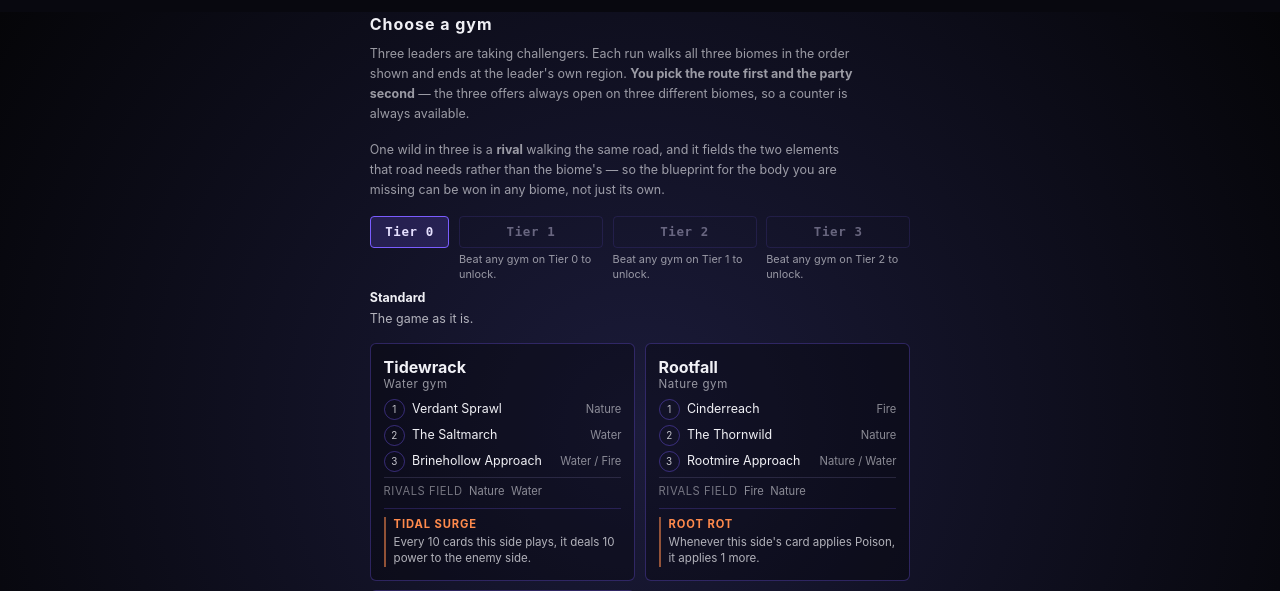
Test: the modifier row › is locked on a fresh ranch: every chip disabled, with the unlock line
The image size is (1280, 591).
Click the button with class "ranch-offer" that starts with "Tidewrack" at (502, 462), box [370,343,635,581]
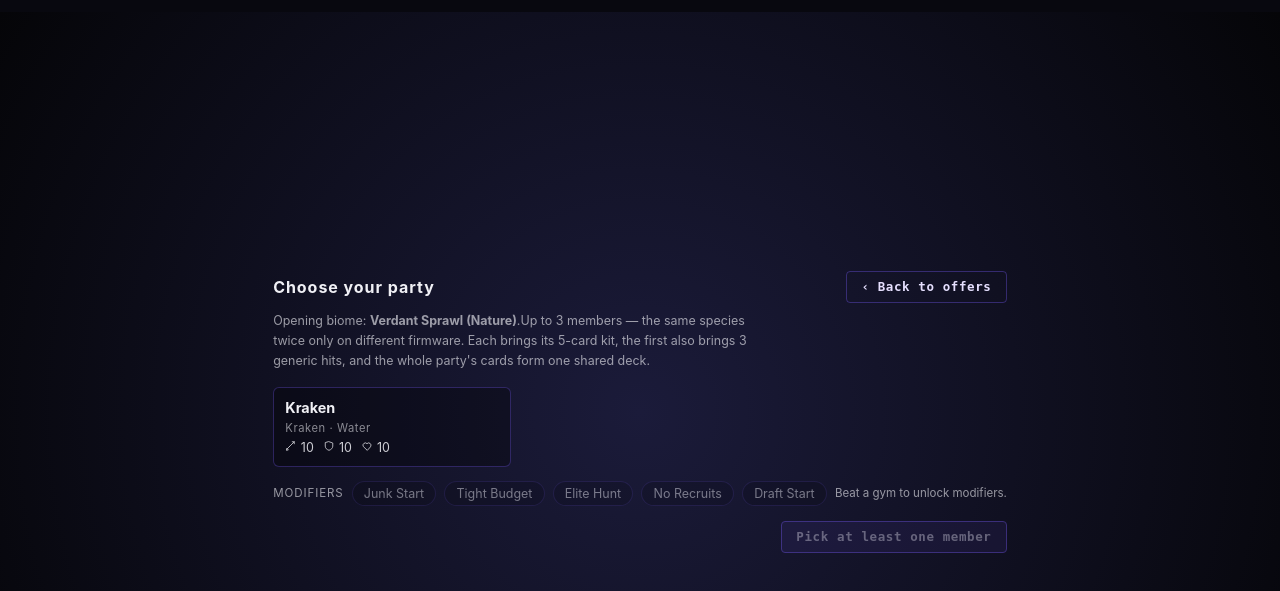
Result: the button "Junk Start" is disabled at [352,481,436,506]
Result: the button "Tight Budget" is disabled at [444,481,545,506]
Result: the button "Elite Hunt" is disabled at [553,481,633,506]
